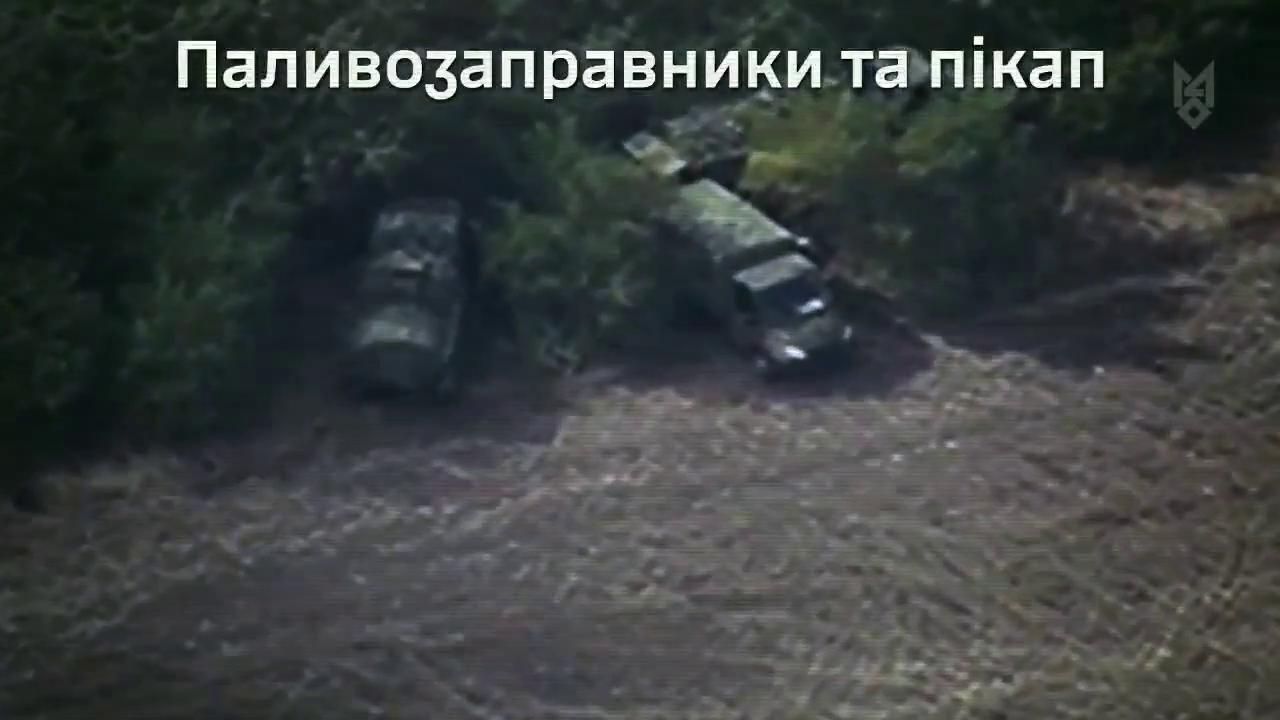tank: (640, 172, 854, 389), (623, 77, 940, 172), (343, 185, 479, 404)
